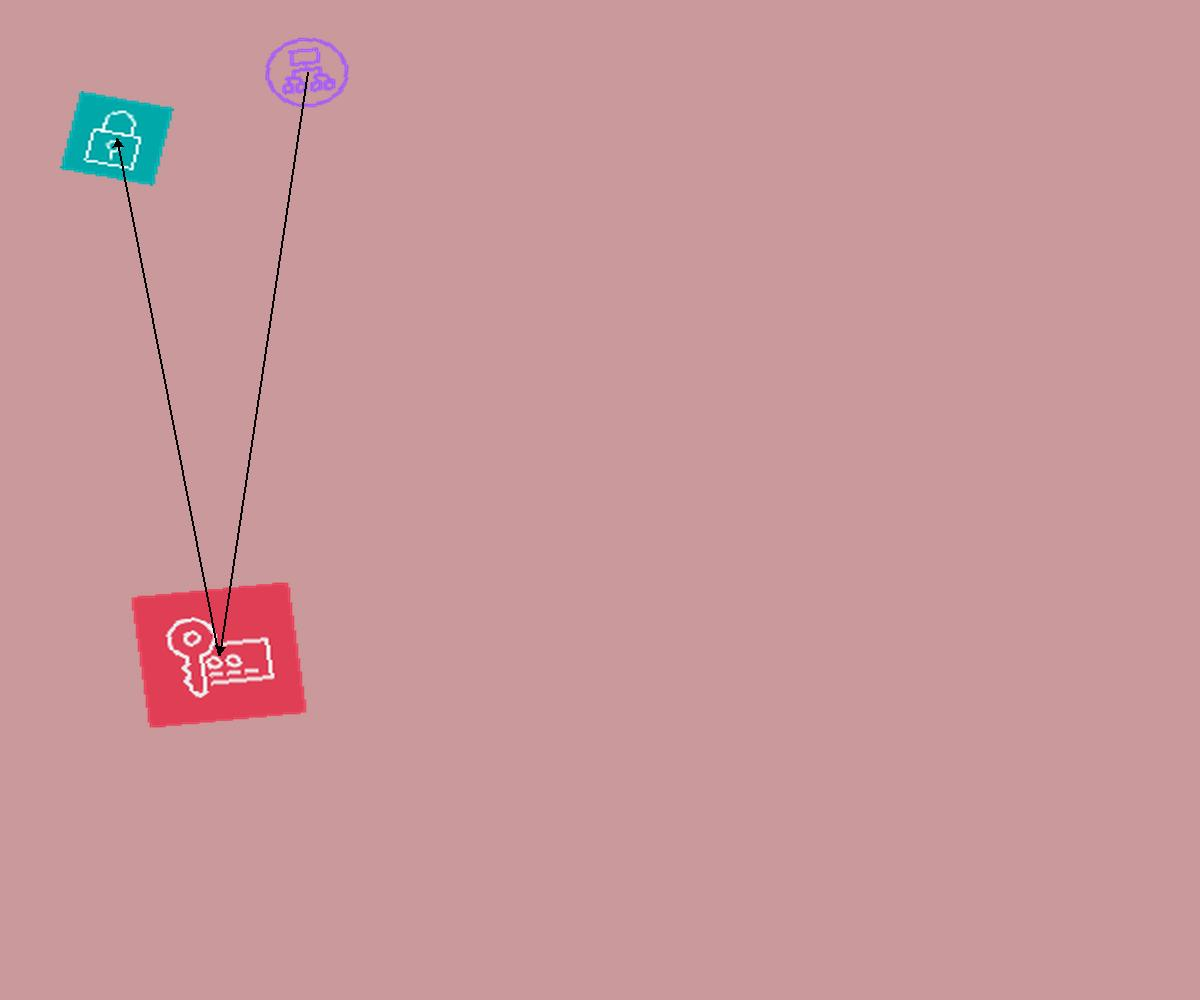AWS-Key-Management-Service: (130, 581, 308, 729)
AWS-Private-subnet: (60, 91, 174, 186)
AWS-Res_Elastic-Load-Balancing_Application-Load-Balancer: (256, 30, 358, 115)
